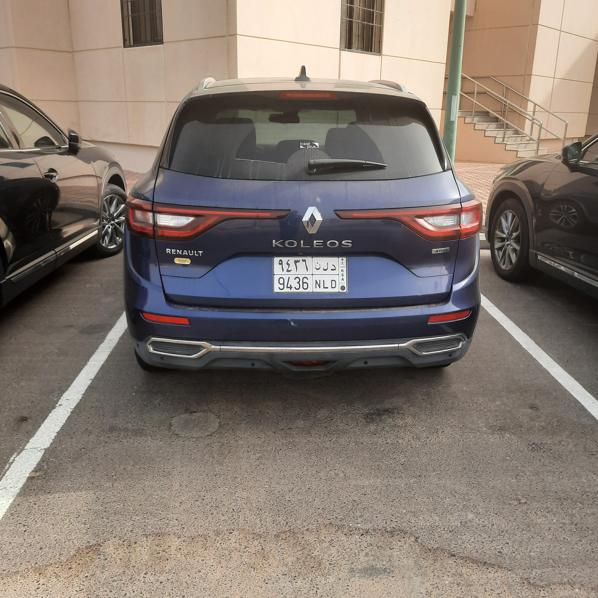numberplate: (273, 255, 347, 292)
